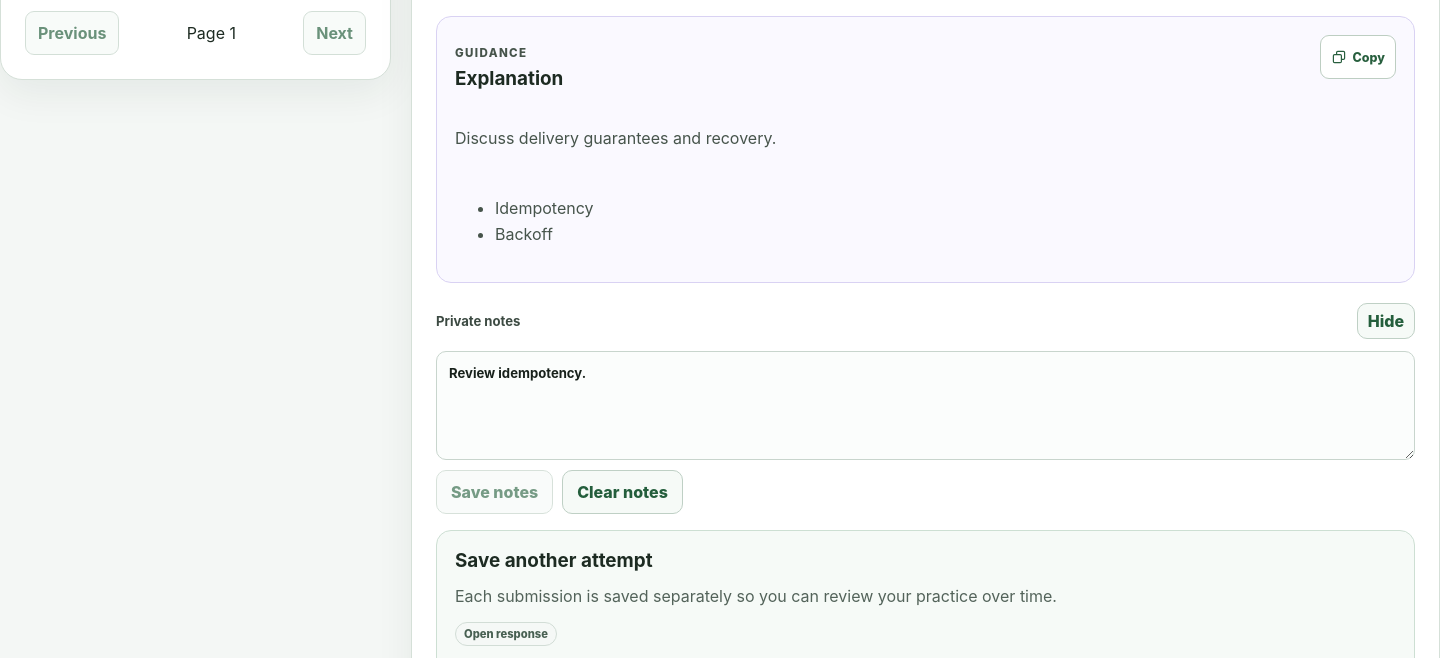
Test: InterviewSessionWorkspace › saves and clears notes only through explicit actions
(page scrolled)
Step 1. Clear the text box named "Private notes" → (926, 406), box [436,351,1415,460]
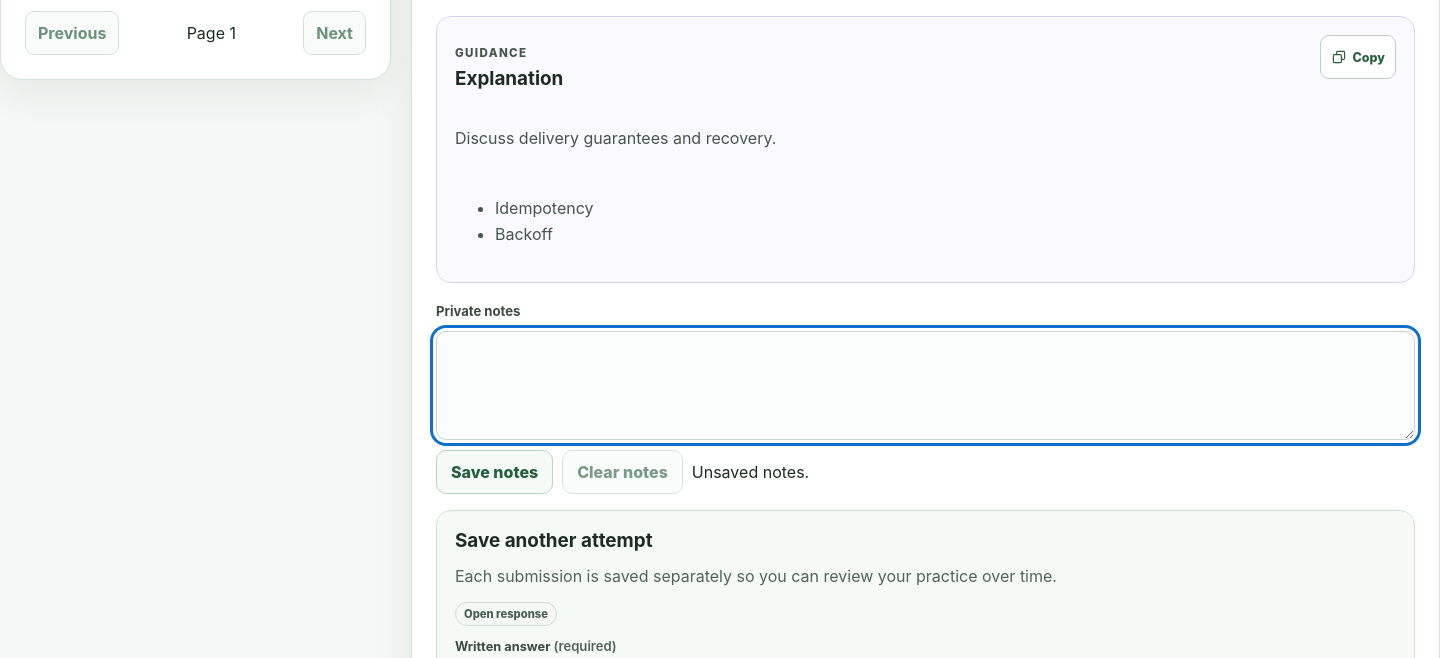
Step 2. Type "Compare delivery semantics." into the text box named "Private notes" → (926, 386), box [436,331,1415,440]
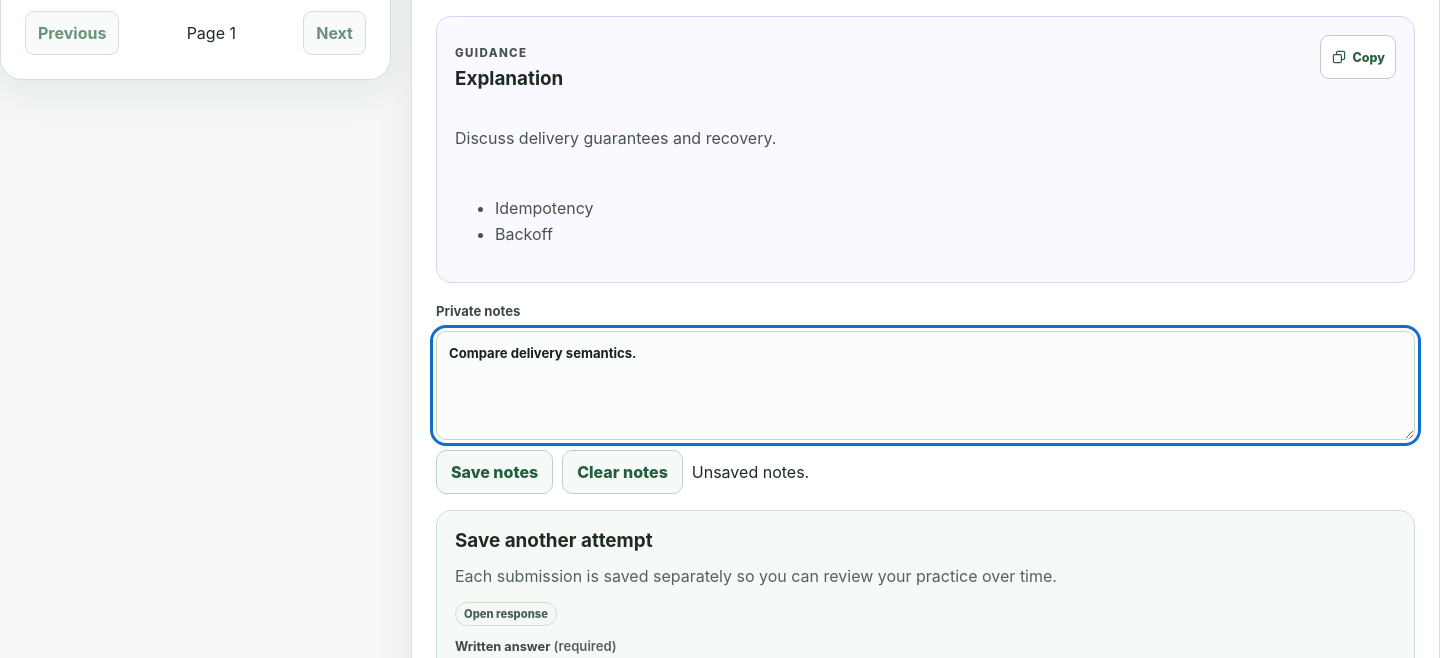
Step 3. Click the button "Save notes" → (495, 472), box [436,450,553,494]
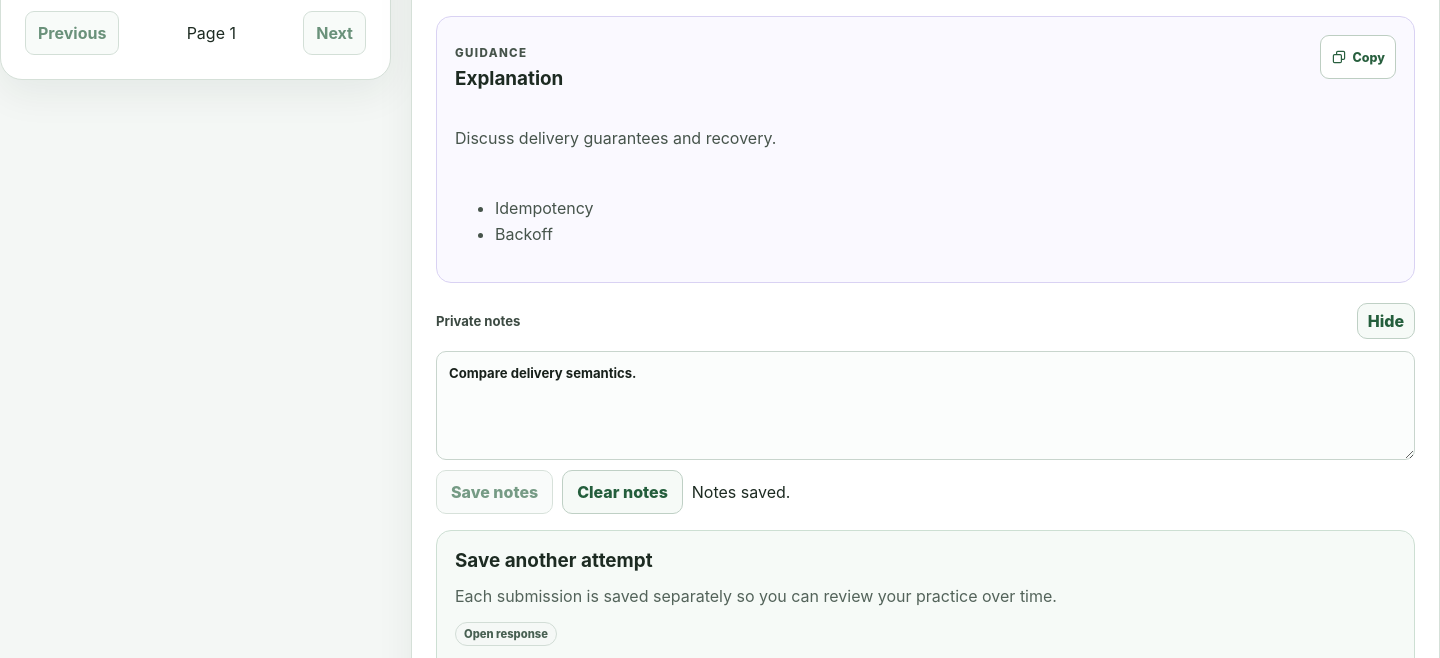
Check: the text "Notes saved." is shown, box [692,482,790,502]
Check: the button "Save notes" is disabled, box [436,470,553,514]
Step 4. Click the button "Clear notes" → (622, 492), box [562,470,683,514]
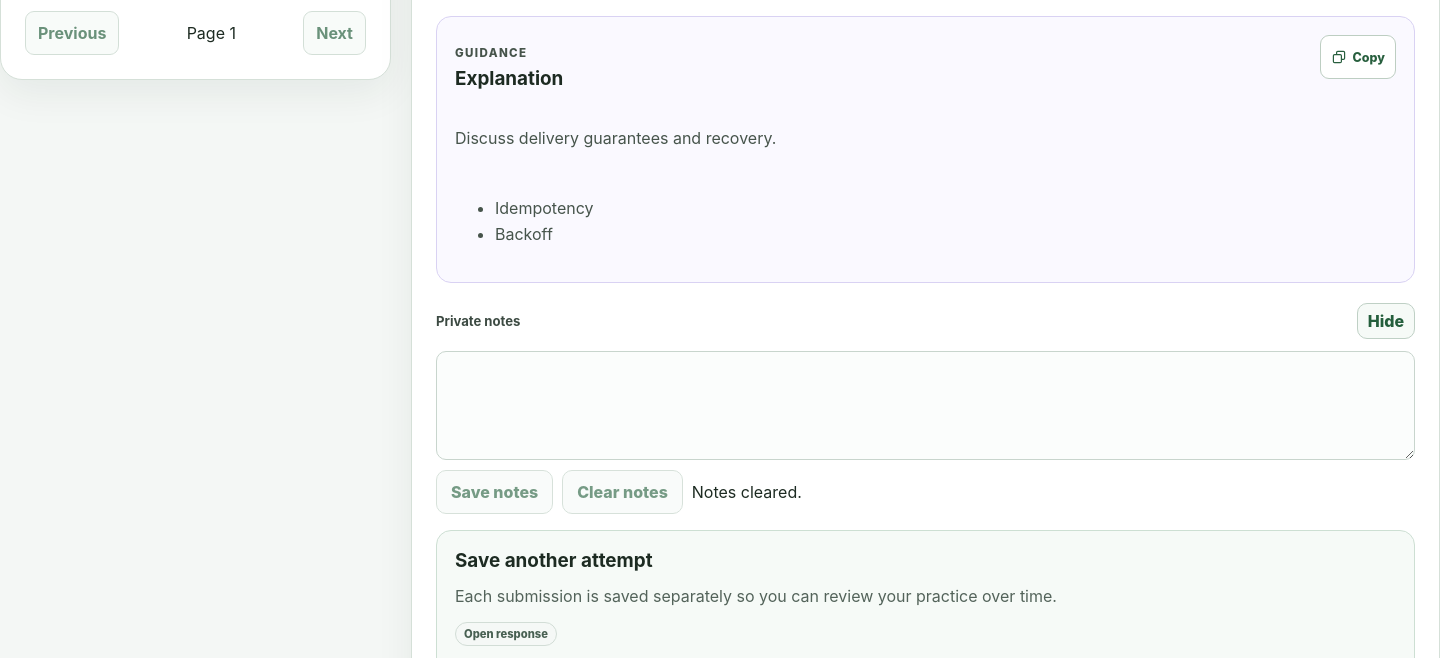
Check: the text "Notes cleared." is shown, box [692,482,802,502]
